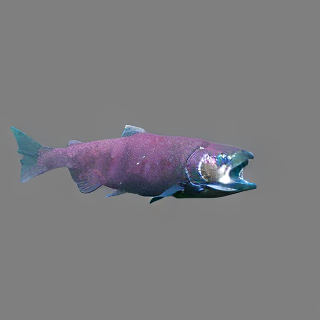Chinook salmon: (7, 121, 260, 210)
